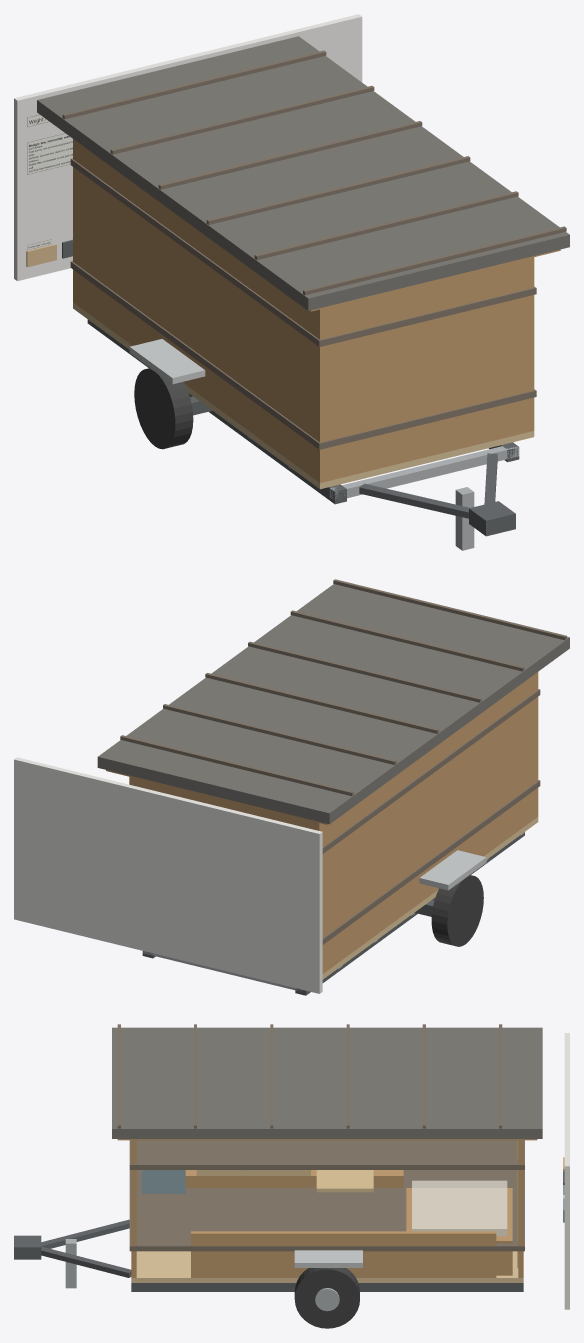
The model's file is wright-usonian-trailer.glb.
3 renders of one model, top to bottom at view 1: azimuth 30°, elevation 25°; view 2: azimuth 150°, elevation 25°; view 3: azimuth 270°, elevation 25°, orthographic. The views are drawn at different scales.
Parts seen in each view (by area): view 1: single flat roof slab with overhang, left warm plywood wall, front compressed wall, Wright / Usonian Trailer label board backing, dark horizontal base trim, dark clerestory trim, left trailer wheel, 6x12 plywood trailer deck.001, steel crossmember y=0, left simple metal fender, exposed thin roof batten 79, exposed thin roof batten 23 (+9 smaller); view 2: single flat roof slab with overhang, Wright / Usonian Trailer label board backing, left warm plywood wall, left trailer wheel, rear wall with door panel, dark clerestory trim, dark horizontal base trim, left simple metal fender, exposed thin roof batten 23, exposed thin roof batten -5, exposed thin roof batten 51, exposed thin roof batten 107 (+4 smaller); view 3: single flat roof slab with overhang, dark horizontal base trim, dark clerestory trim, cutaway right low sill, thin sleeping pad, 6x12 plywood trailer deck.001, right steel frame rail, right trailer wheel, continuous storage bench under window, Wright / Usonian Trailer label board backing, fold-down eating/work surface lowered, right simple metal fender (+16 smaller).
Part boxes in pixels (x1=…): single flat roof slab with overhang: x1=37, y1=36, x2=569, y2=310; left warm plywood wall: x1=73, y1=139, x2=325, y2=482; front compressed wall: x1=316, y1=257, x2=534, y2=482; Wright / Usonian Trailer label board backing: x1=14, y1=14, x2=362, y2=281; dark horizontal base trim: x1=70, y1=261, x2=536, y2=449; dark clerestory trim: x1=70, y1=158, x2=536, y2=346; left trailer wheel: x1=134, y1=368, x2=193, y2=449; 6x12 plywood trailer deck.001: x1=73, y1=302, x2=534, y2=489; steel crossmember y=0: x1=329, y1=446, x2=519, y2=500; left simple metal fender: x1=129, y1=339, x2=205, y2=384; exposed thin roof batten 79: x1=158, y1=121, x2=422, y2=189; exposed thin roof batten 23: x1=254, y1=191, x2=518, y2=259; single flat roof slab with overhang: x1=97, y1=584, x2=569, y2=824; Wright / Usonian Trailer label board backing: x1=14, y1=757, x2=322, y2=993; left warm plywood wall: x1=314, y1=672, x2=538, y2=973; left trailer wheel: x1=431, y1=875, x2=483, y2=946; rear wall with door panel: x1=129, y1=777, x2=321, y2=830; dark clerestory trim: x1=322, y1=689, x2=540, y2=853; dark horizontal base trim: x1=322, y1=780, x2=540, y2=944; left simple metal fender: x1=419, y1=850, x2=486, y2=890; exposed thin roof batten 23: x1=290, y1=610, x2=524, y2=671; exposed thin roof batten -5: x1=333, y1=579, x2=566, y2=640; exposed thin roof batten 51: x1=248, y1=641, x2=481, y2=702; exposed thin roof batten 107: x1=163, y1=704, x2=396, y2=764; single flat roof slab with overhang: x1=112, y1=1027, x2=542, y2=1138; dark horizontal base trim: x1=129, y1=1170, x2=524, y2=1251; dark clerestory trim: x1=129, y1=1140, x2=524, y2=1169; cutaway right low sill: x1=191, y1=1231, x2=496, y2=1277; thin sleeping pad: x1=412, y1=1180, x2=507, y2=1236; 6x12 plywood trailer deck.001: x1=131, y1=1251, x2=523, y2=1282; right steel frame rail: x1=131, y1=1283, x2=523, y2=1291; right trailer wheel: x1=294, y1=1268, x2=359, y2=1328; continuous storage bench under window: x1=185, y1=1170, x2=403, y2=1188; Wright / Usonian Trailer label board backing: x1=564, y1=1033, x2=569, y2=1309; fold-down eating/work surface lowered: x1=316, y1=1170, x2=373, y2=1192; right simple metal fender: x1=294, y1=1250, x2=362, y2=1267.
Bounding box in the file's own units: 3.07 × 2.17 × 5.18.
Materials: 25 (9 with a texture image).
